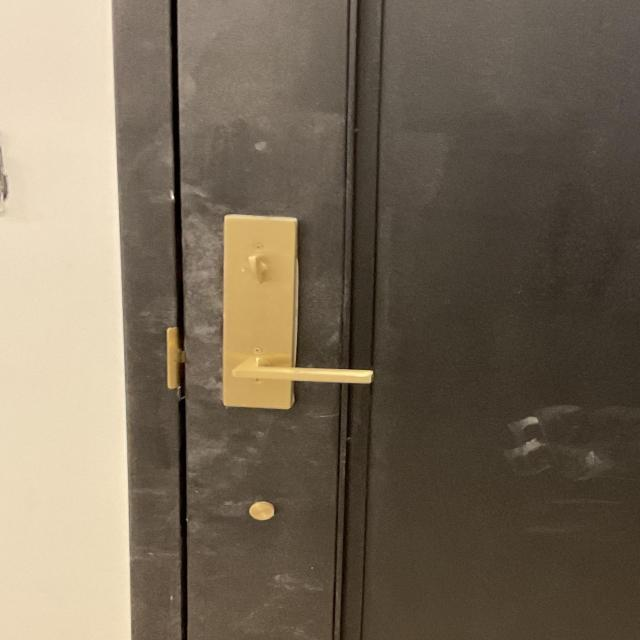door_handle: (203, 345, 394, 400)
